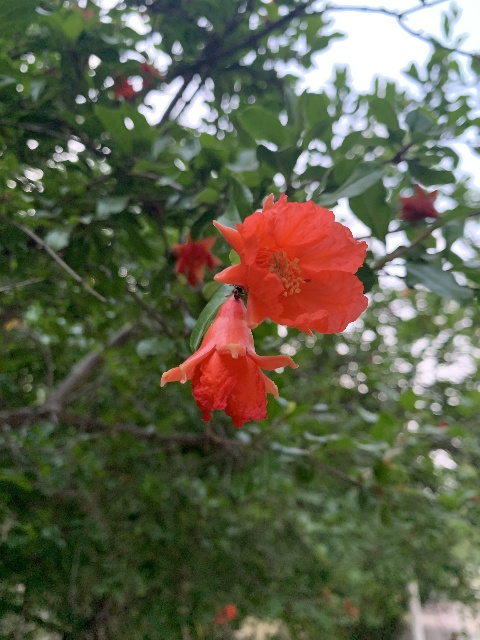flower: (212, 191, 370, 335), (161, 297, 297, 428), (171, 231, 222, 287), (397, 184, 440, 222)
